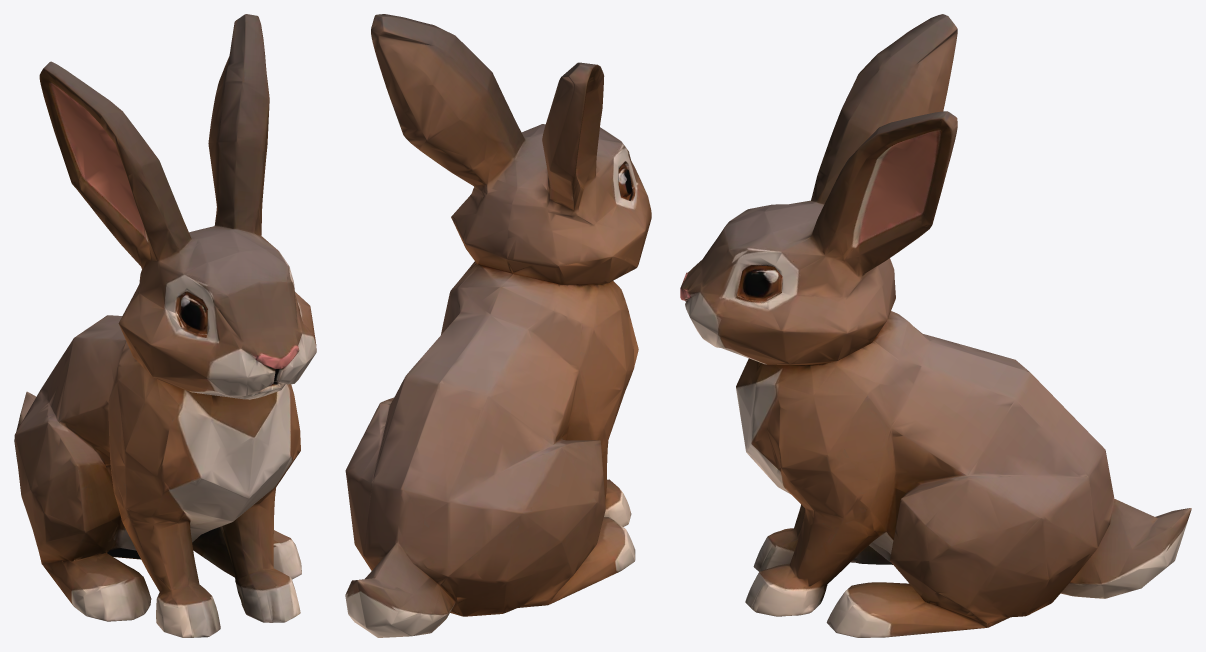
File: rabbit.glb
The picture shows the model from 3 angles, left to right: view 1: azimuth 30°, elevation 25°; view 2: azimuth 150°, elevation 25°; view 3: azimuth 270°, elevation 25°; orthographic projection.
Parts seen in each view (by area): view 1: node_0; view 2: node_0; view 3: node_0.
Part boxes in pixels (<box>): node_0: <box>14,14,316,637</box>; node_0: <box>345,14,651,637</box>; node_0: <box>680,14,1191,637</box>.
Bounding box in the file's own units: 0.453 × 0.9835 × 0.868.
1 material, 1 textured.
